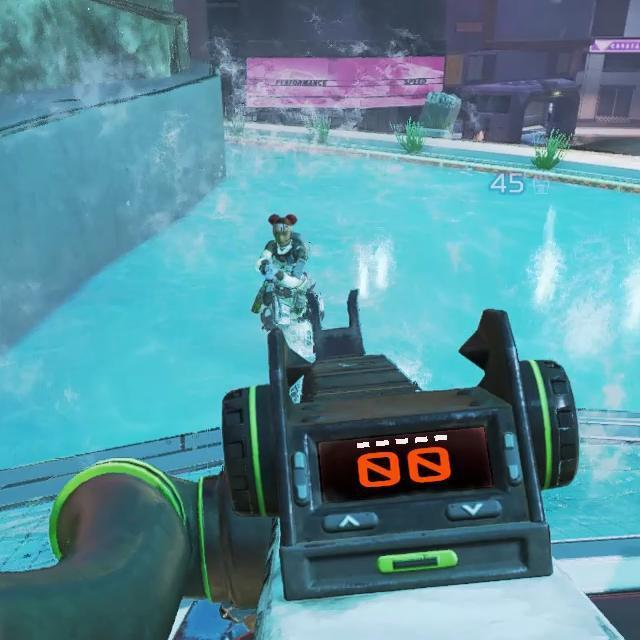avatar: (249, 211, 309, 331)
